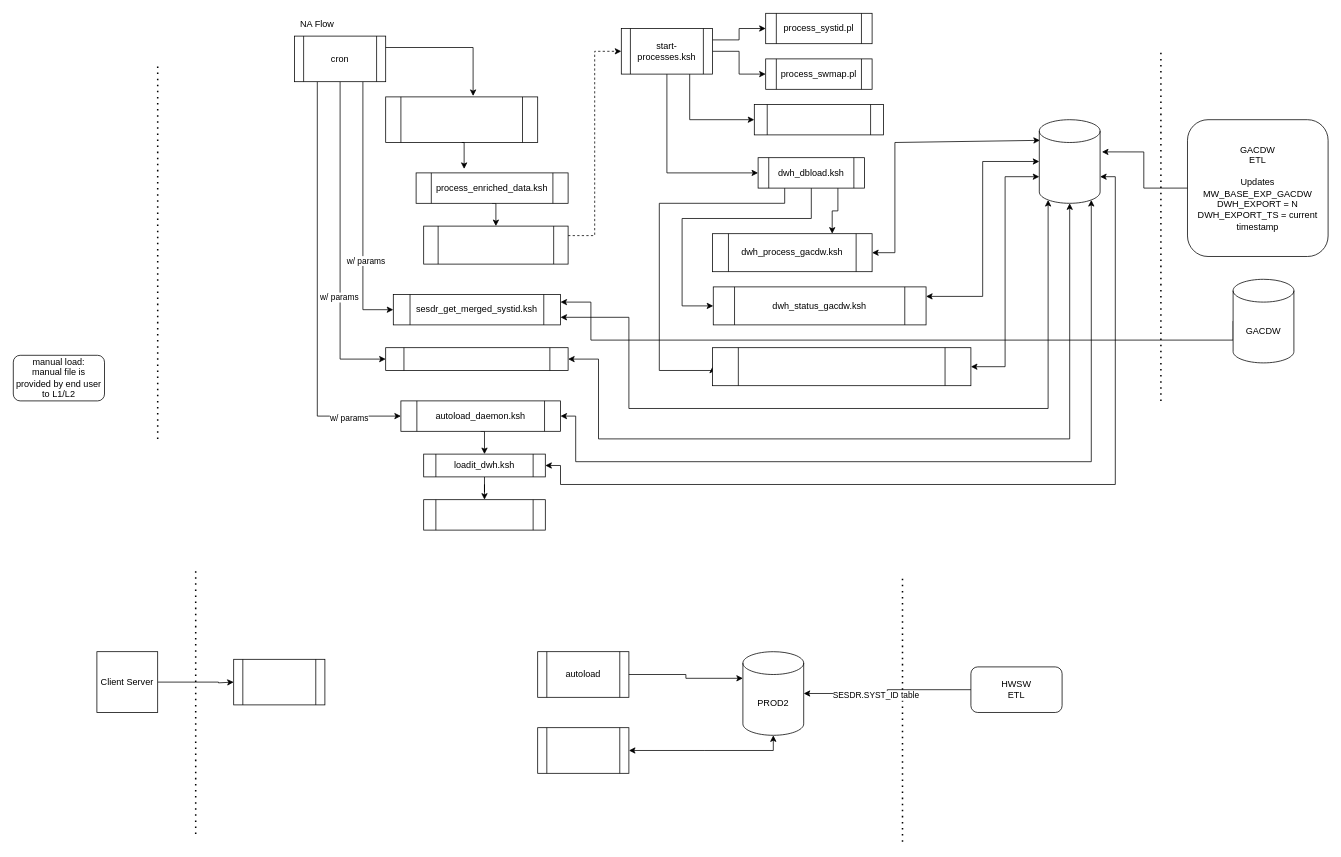
This 1341x857 diagram has some shape labels left out. Here are the shapes that lost their labels. From the top down, the box of each, then its label:
(385, 96, 538, 142): dwh_queue_manager.ksh
(754, 104, 884, 135): process_hash_value.pl
(1039, 119, 1100, 203): DWHPROD
(423, 225, 568, 264): set_dwhprod_env.sh
(385, 347, 568, 370): dwh_gacdw_update_statuses.ksh
(712, 347, 971, 386): dwh_process_default_upd_gacdw_upd_systid.ksh
(423, 499, 545, 530): process_merge.pl
(233, 659, 325, 705): sfssync
(537, 727, 629, 773): processing-engine-global
